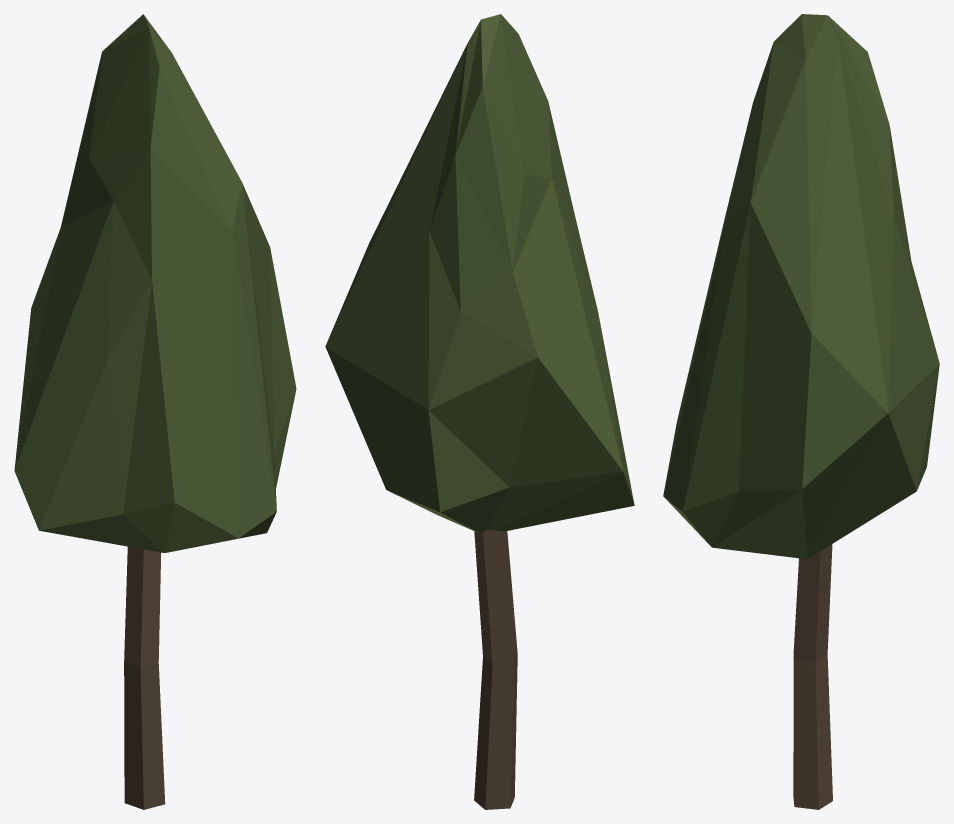
File: Tree_046.fbx
3 renders of one model, left to right at view 1: azimuth 30°, elevation 25°; view 2: azimuth 150°, elevation 25°; view 3: azimuth 270°, elevation 25°, orthographic.
Visible parts, largest first — view 1: Tree_046; view 2: Tree_046; view 3: Tree_046.
Part boxes in pixels (x1=…): Tree_046: x1=14, y1=14, x2=296, y2=809; Tree_046: x1=325, y1=14, x2=634, y2=809; Tree_046: x1=663, y1=14, x2=939, y2=809.
Bounding box in the file's own units: 0.5141 × 1.39 × 0.4415.
1 material, 1 textured.
